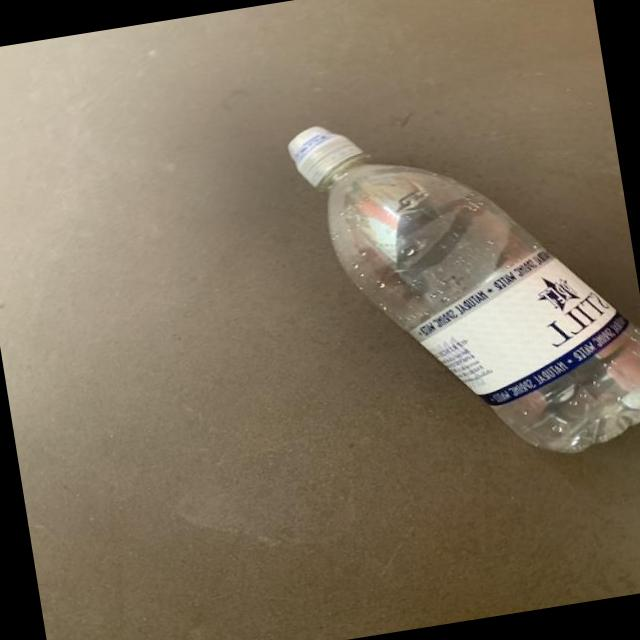BotolPlastik: (283, 79, 640, 492)
